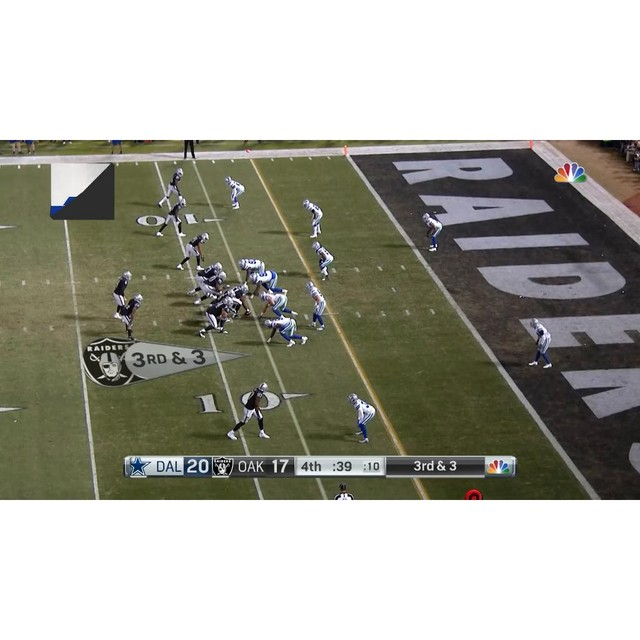american-football-player: (227, 381, 271, 440), (263, 316, 308, 348), (348, 392, 375, 444), (198, 299, 234, 337), (154, 198, 187, 236), (118, 292, 143, 342), (528, 317, 552, 369), (188, 261, 223, 295), (177, 232, 209, 269), (194, 271, 226, 307), (157, 167, 184, 209), (259, 292, 296, 321), (306, 281, 326, 332), (112, 270, 132, 320), (248, 270, 283, 298), (224, 283, 252, 317), (313, 241, 335, 281), (422, 212, 443, 251), (303, 199, 323, 238), (237, 258, 265, 283), (224, 176, 244, 209)
